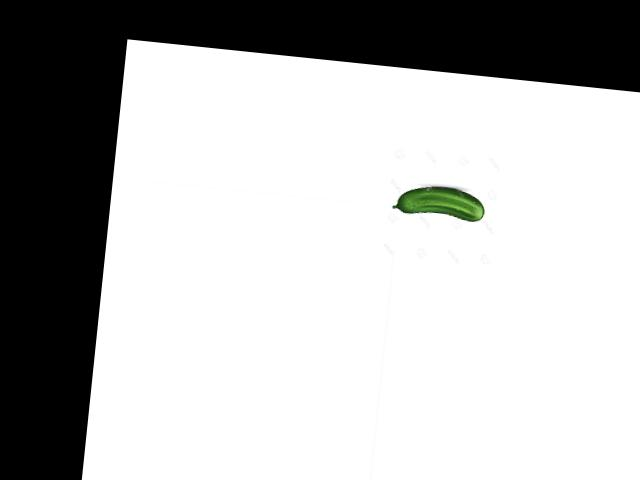cucumber: (392, 181, 486, 222)
